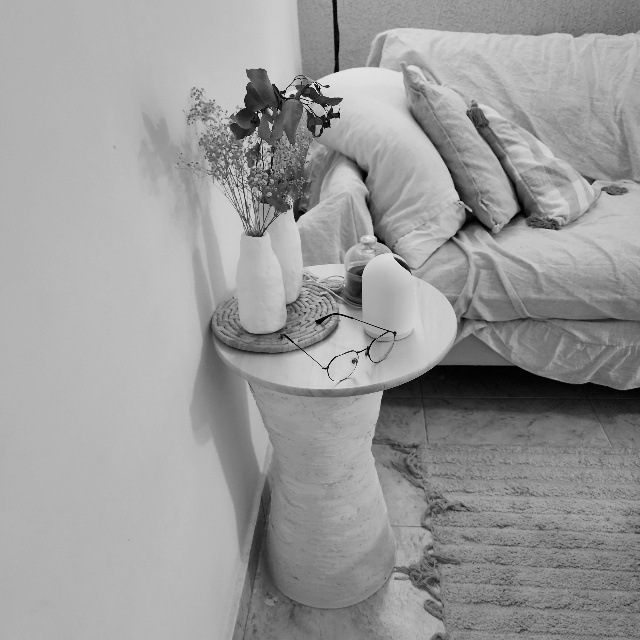glasses: (281, 313, 399, 382)
